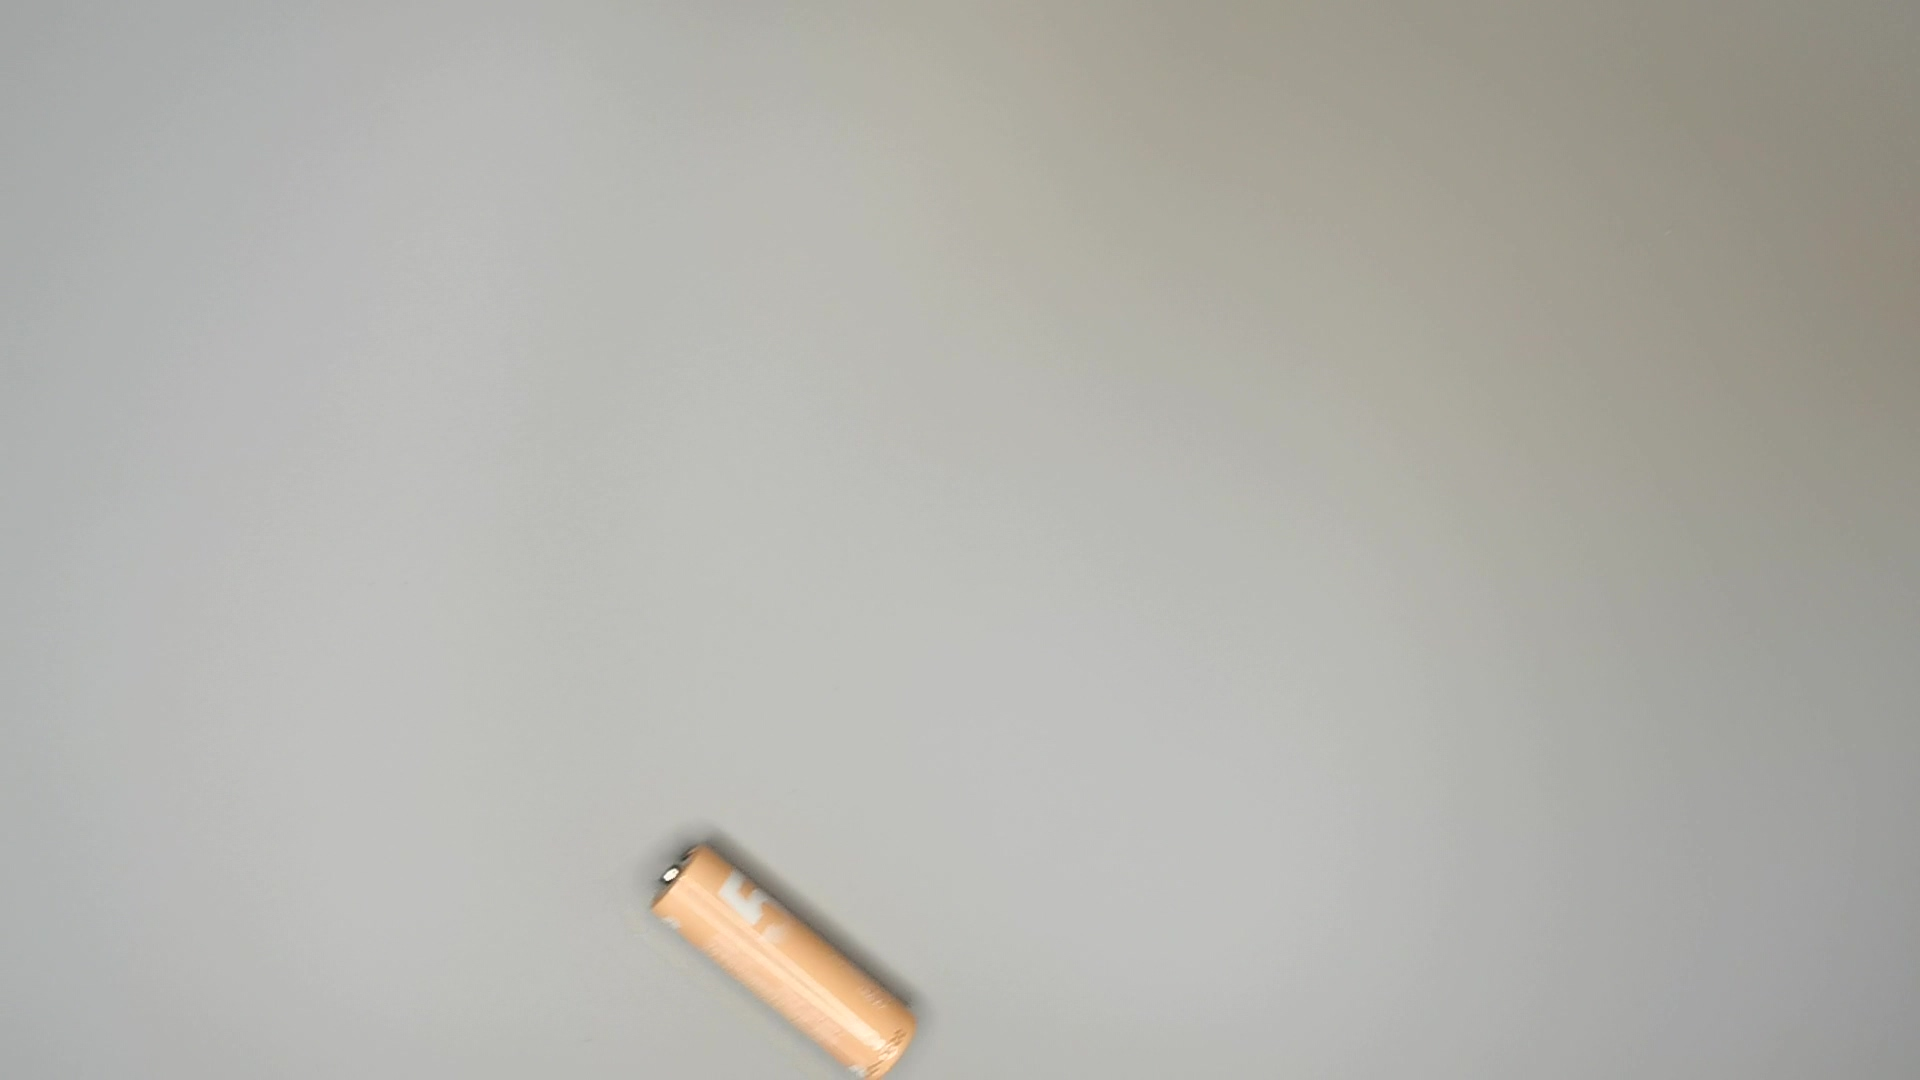battery: (647, 839, 930, 1080)
